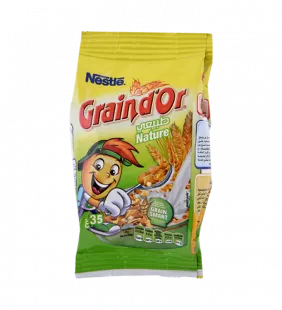GRAIN D'OR: (60, 20, 220, 285)
